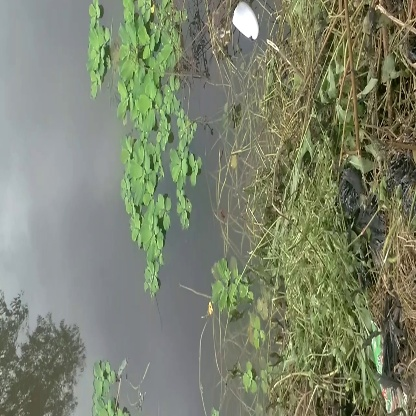leaf: (131, 208, 178, 298)
